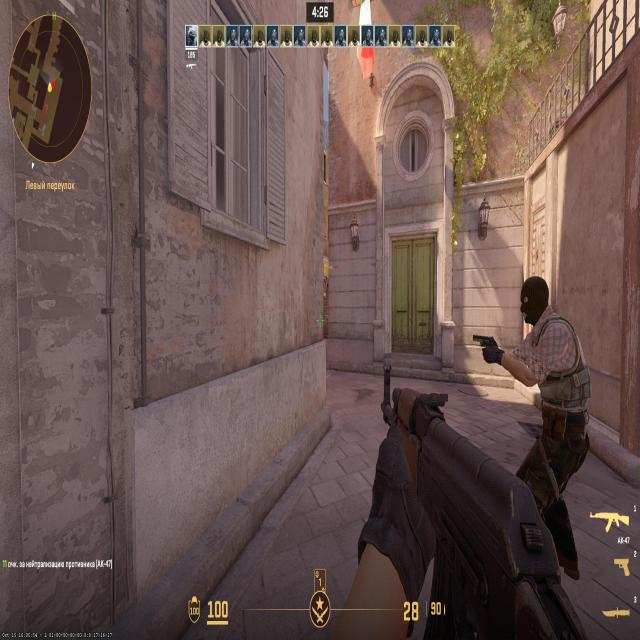T: (522, 282, 583, 491)
T_heat: (524, 287, 550, 335)
